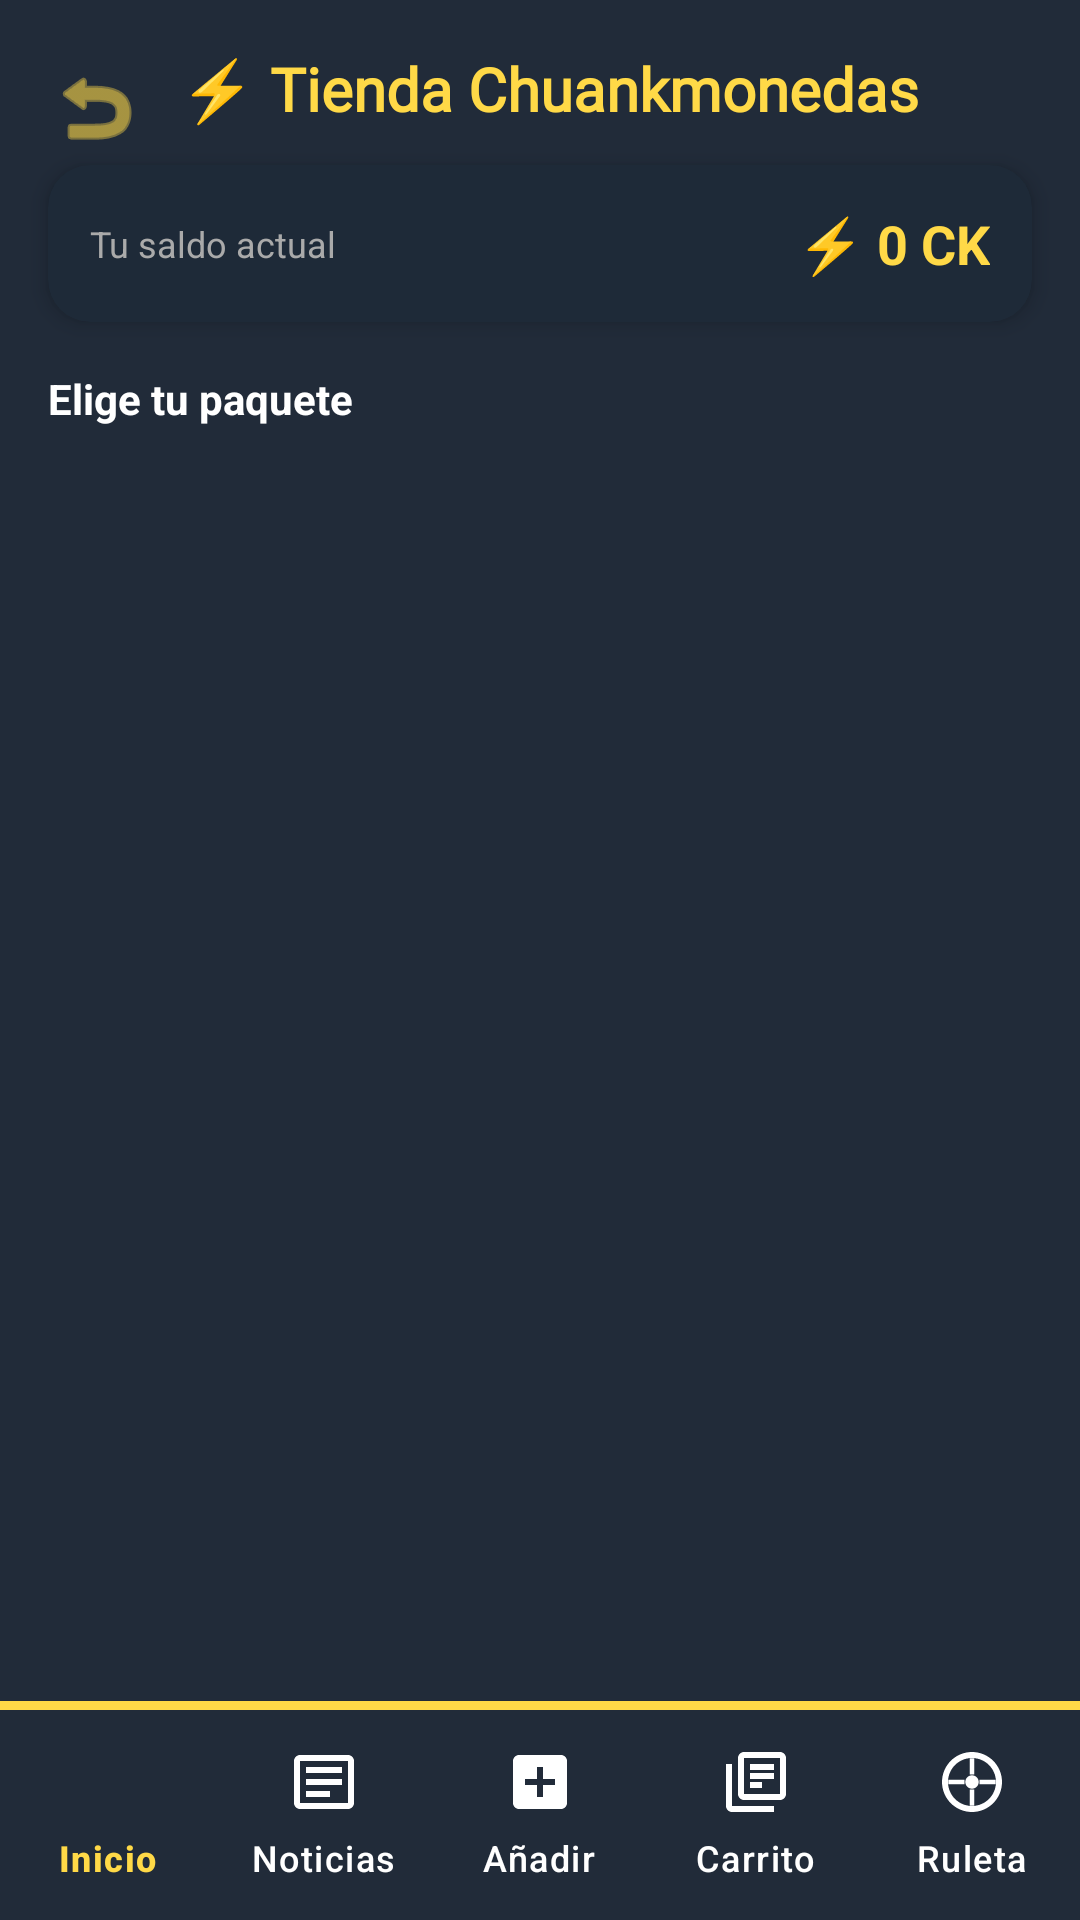

Where icons sit on this 1080×1920 app screen, as bbox(x1, y1, x2, y2):
Volver: bbox(63, 77, 132, 140)
